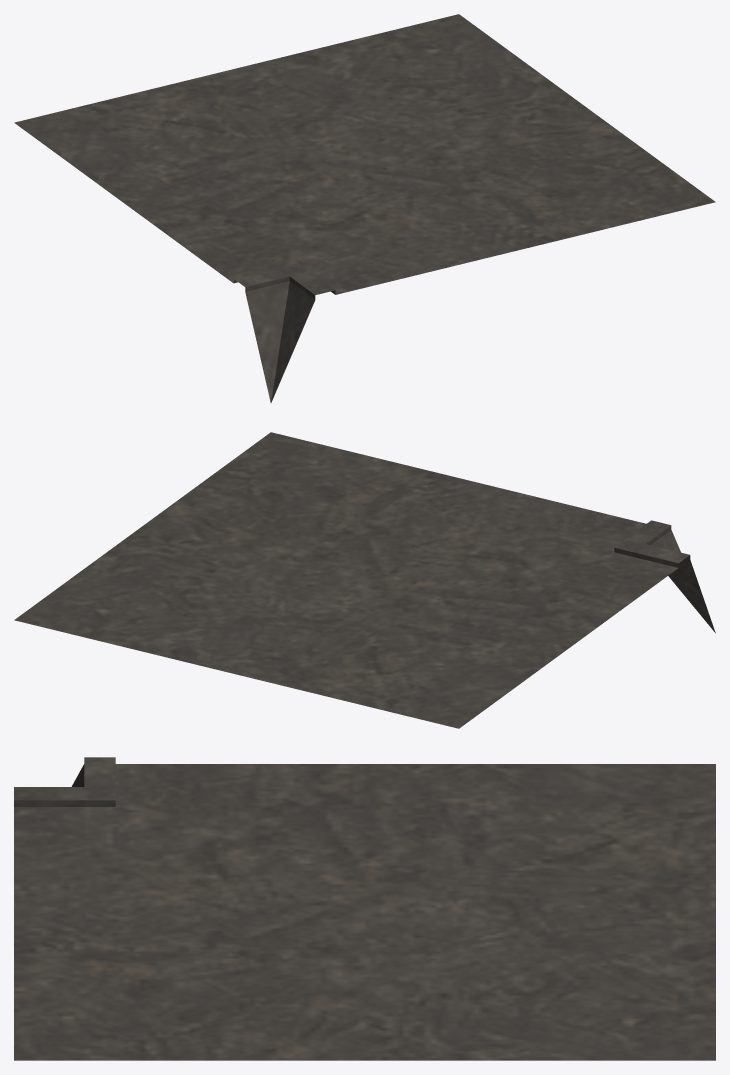
The model's file is Pavement_10.glb.
The picture shows the model from 3 angles, top to bottom: view 1: azimuth 30°, elevation 25°; view 2: azimuth 150°, elevation 25°; view 3: azimuth 270°, elevation 25°; orthographic projection. The views are drawn at different scales.
Visible parts, largest first — view 1: Pavement_10.001; view 2: Pavement_10.001; view 3: Pavement_10.001.
Boxes of the visible parts, box(x1,y1,x2,y2) form: Pavement_10.001: box(14, 14, 715, 402); Pavement_10.001: box(14, 432, 715, 728); Pavement_10.001: box(14, 757, 715, 1060).
Bounding box in the file's own units: 1 × 0.21 × 1.
Materials: 1 (1 with a texture image).
